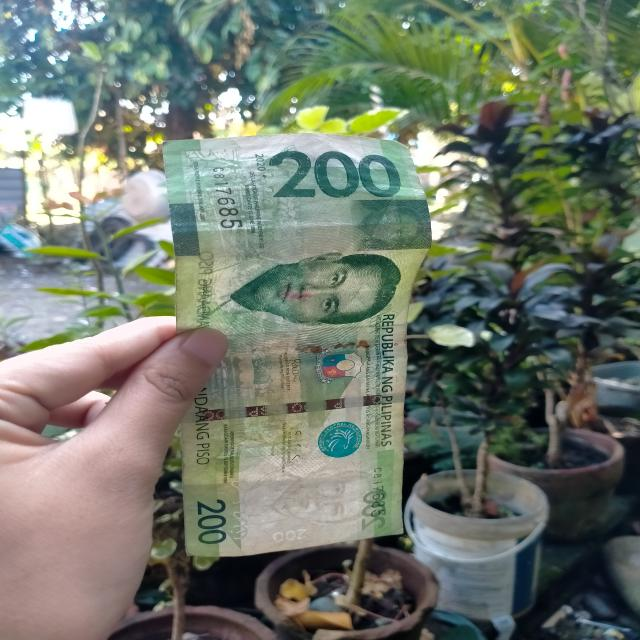concealed_value: (352, 199, 432, 250)
security_thread: (186, 390, 406, 427)
see_through_mark: (224, 474, 252, 542)
serial_number: (211, 163, 244, 230)
value: (262, 149, 398, 202)
value_watermark: (266, 527, 311, 544)
watermark: (247, 463, 378, 530)
